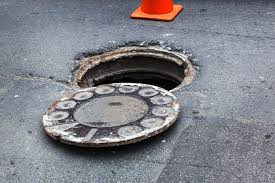Manhole-Open: (69, 33, 214, 105)
